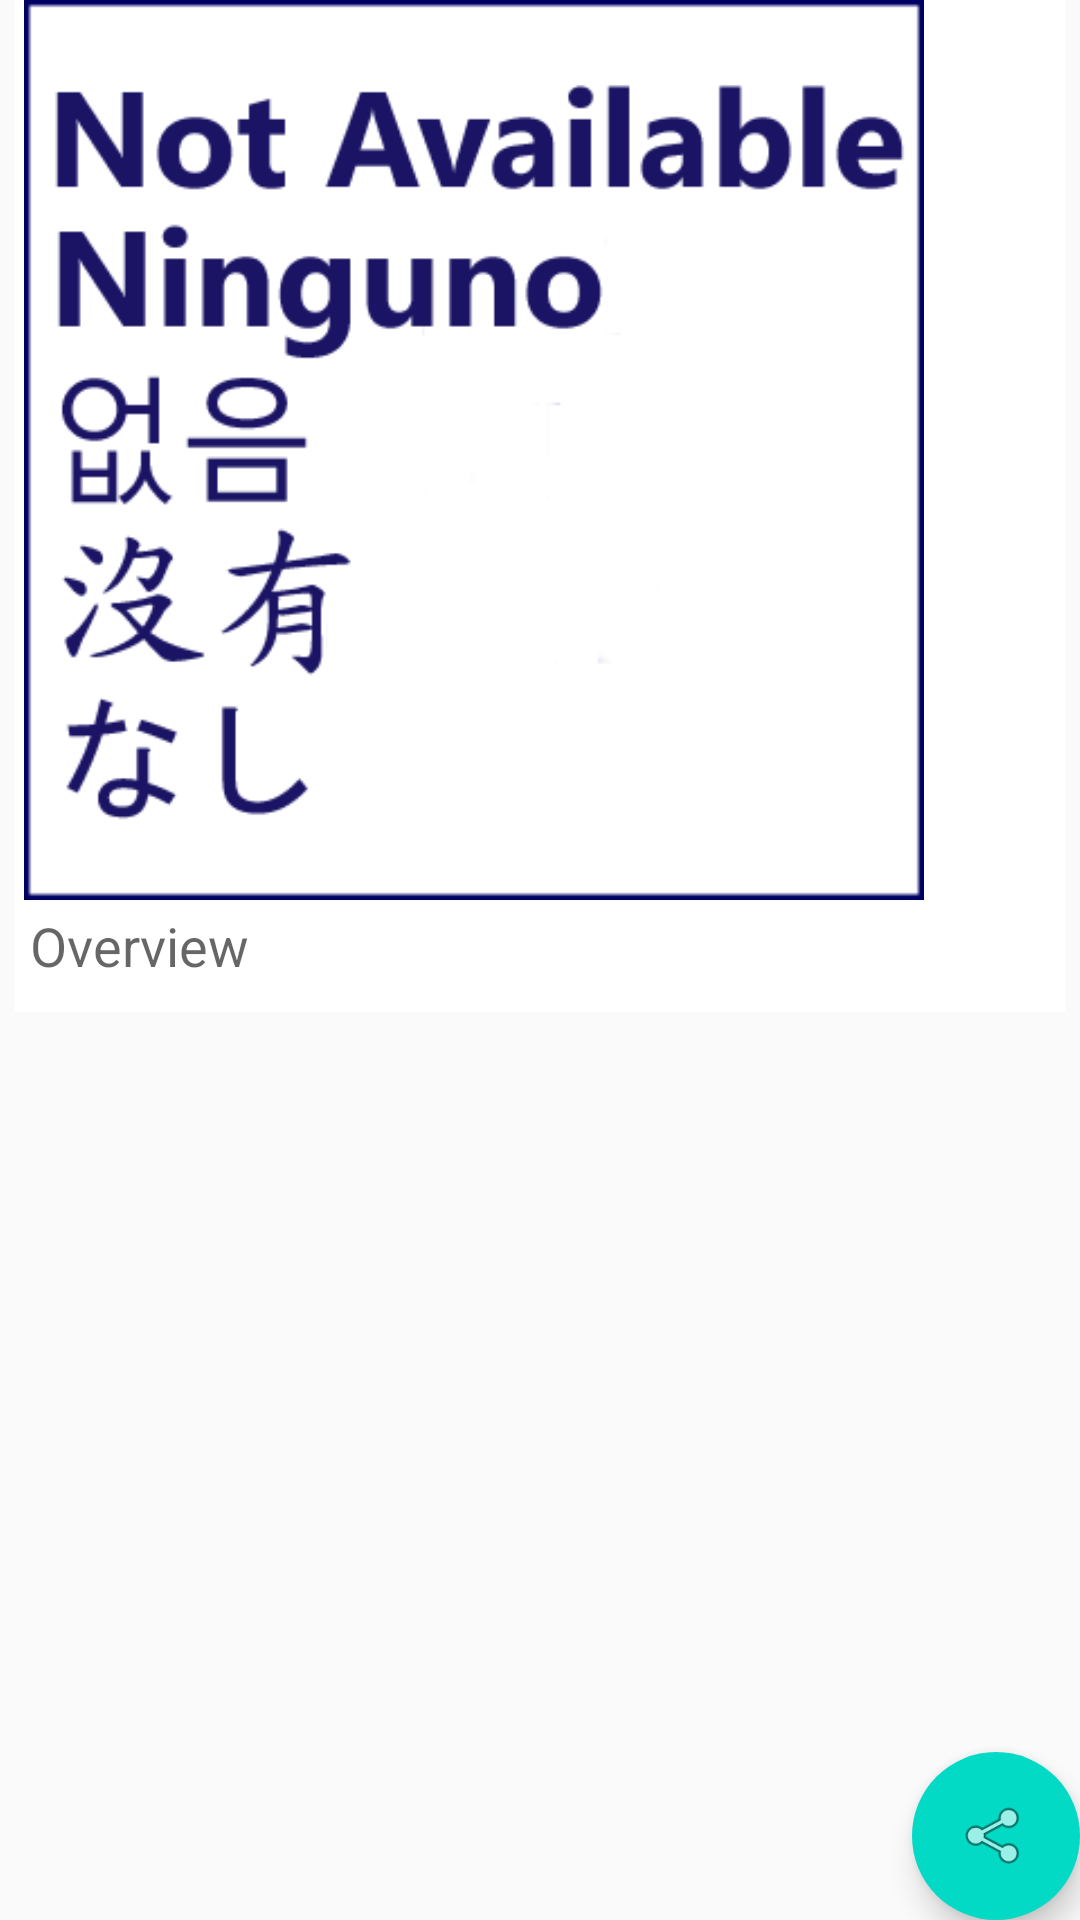

Point at icon controls on the screen. Image size 1080×1920, points as (x,y).
share: (996,1836)
